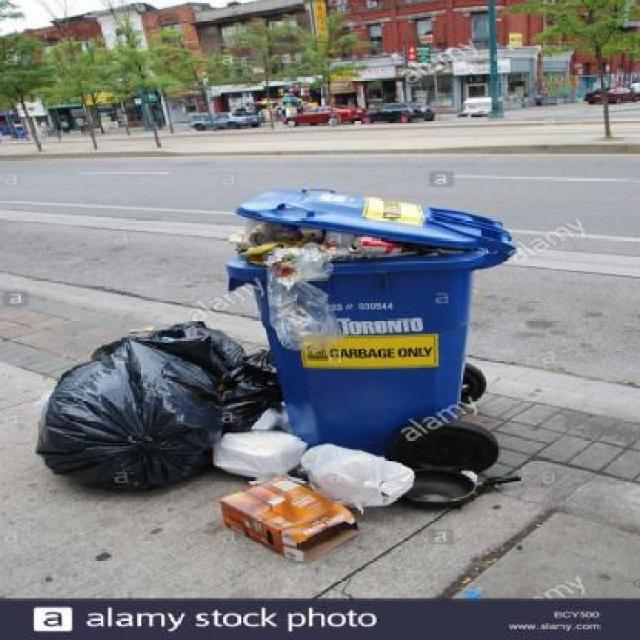garbage: (32, 315, 274, 478), (200, 425, 469, 551), (259, 246, 346, 353), (226, 214, 389, 261)
